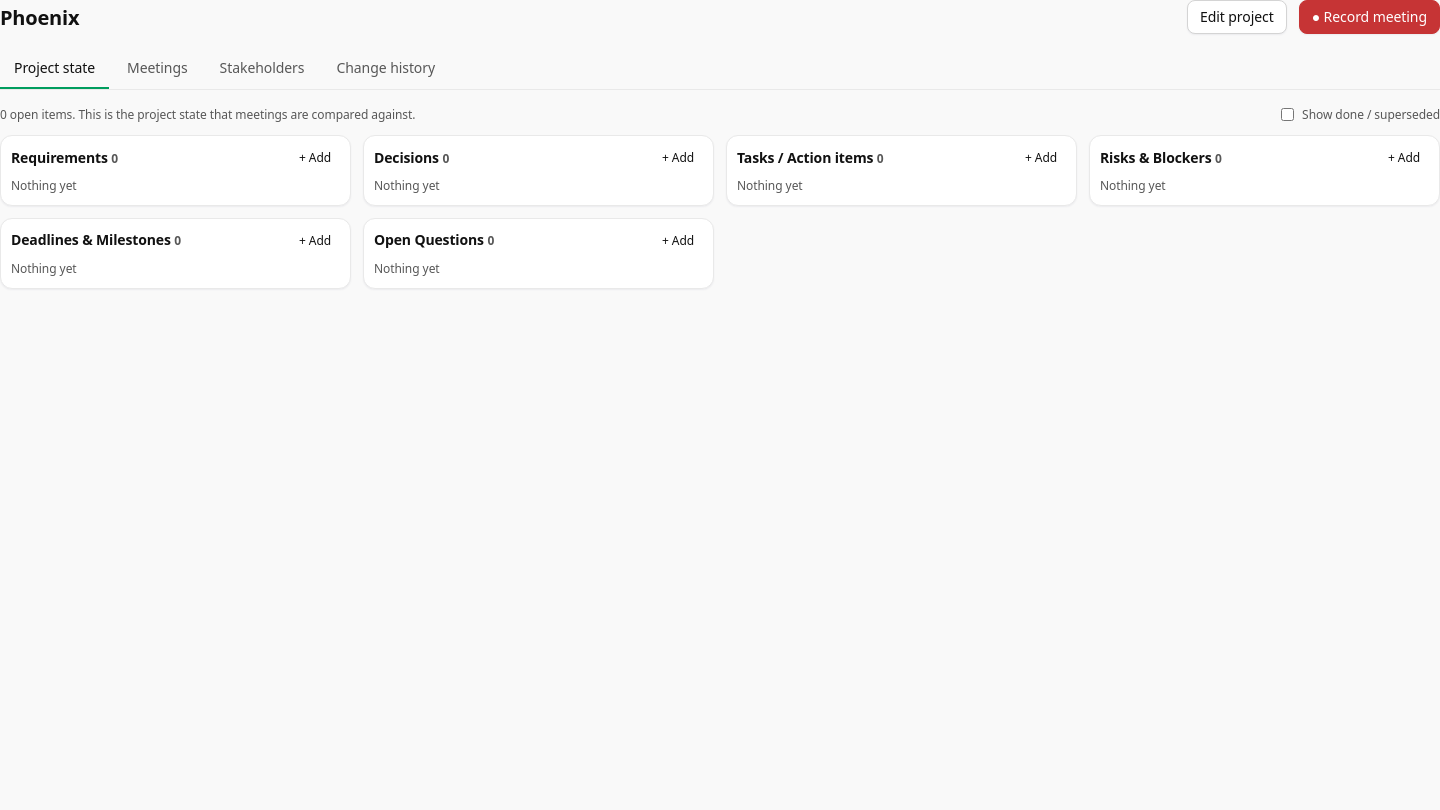
Test case: project page › shows why deleting the project failed
The image size is (1440, 810).
Click the button "Edit project": (1237, 17) left=1187, top=0, right=1287, bottom=34
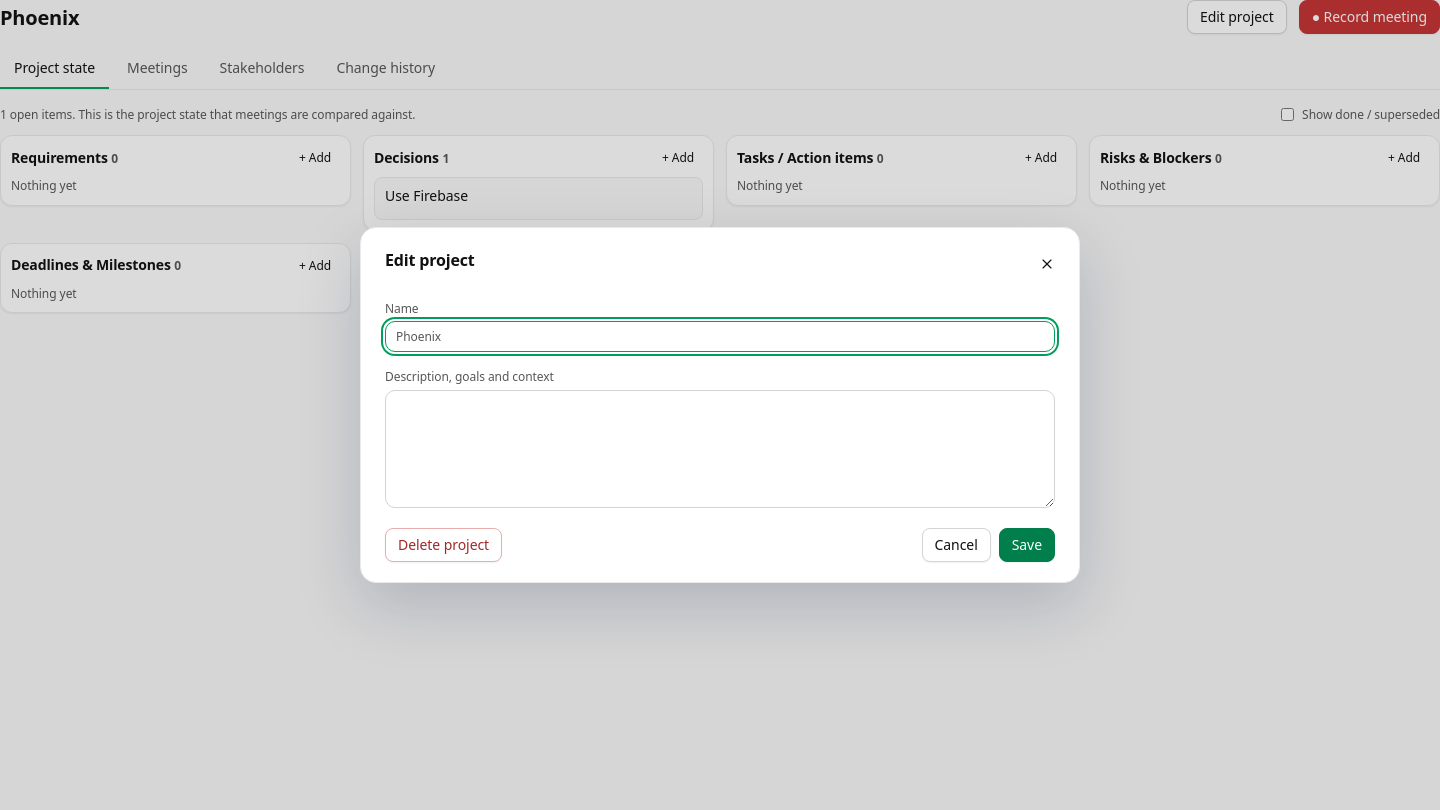
Click the button "Delete project": (444, 545) left=385, top=528, right=502, bottom=562
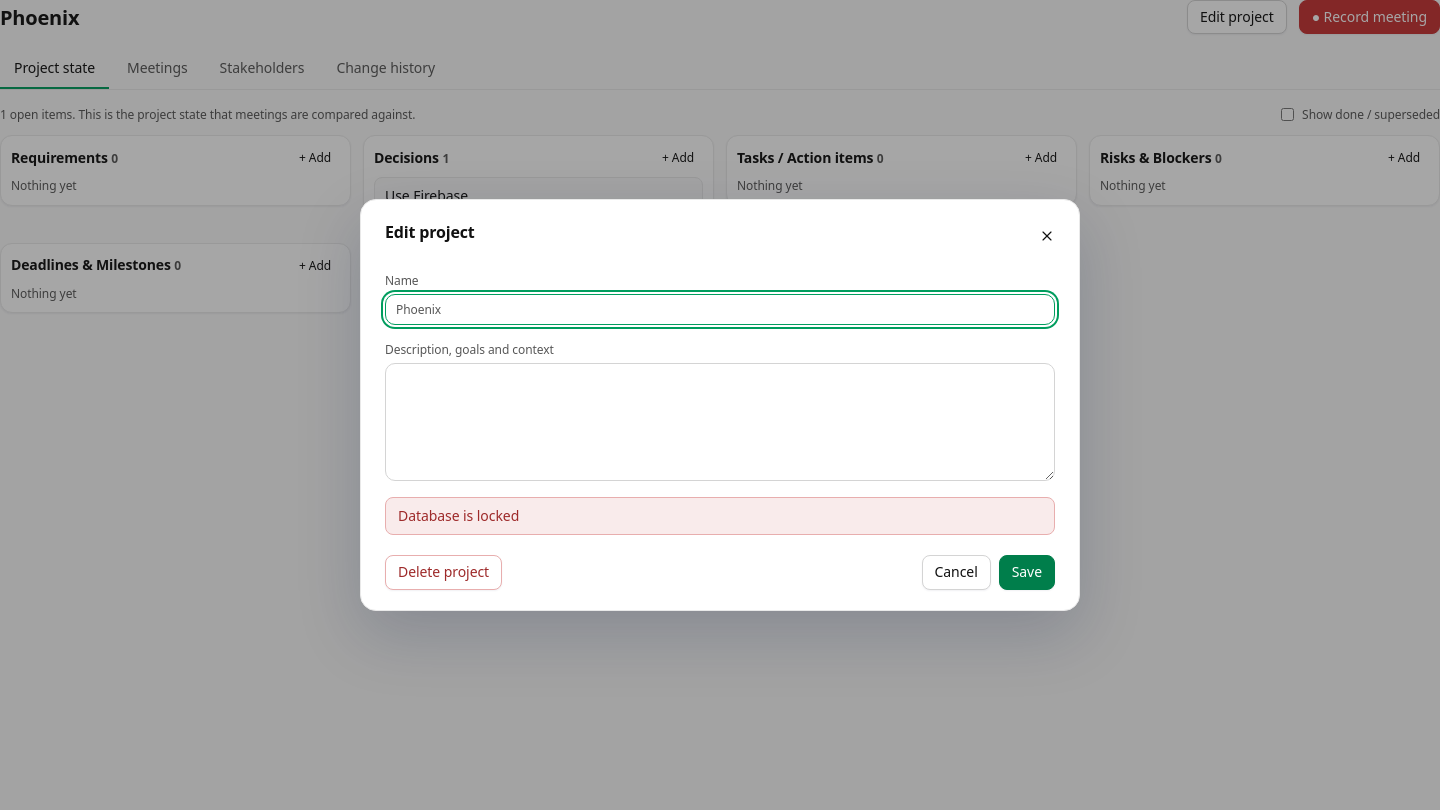
Check: the text "Database is locked" is shown, box left=385, top=497, right=1055, bottom=535
